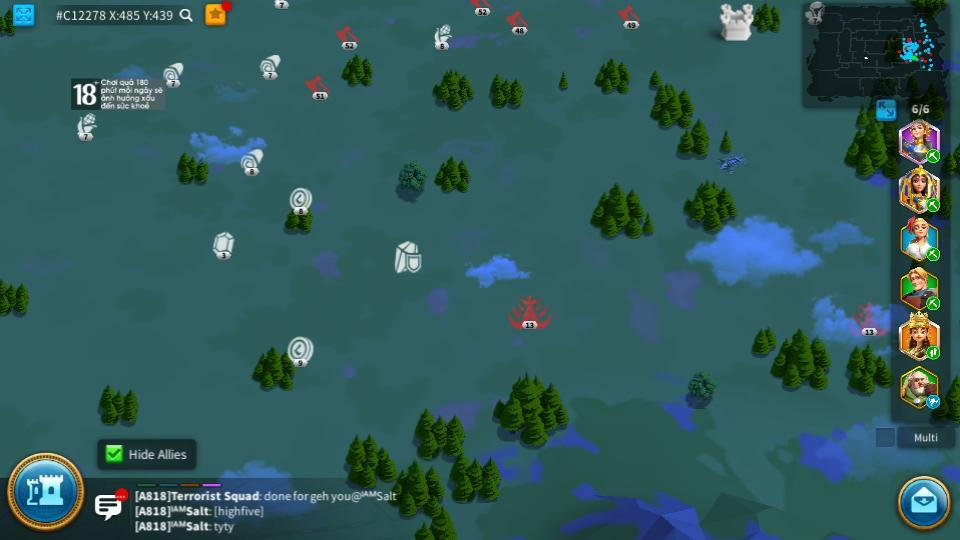gem-z-out: (211, 231, 235, 257), (273, 0, 290, 8)
march_farming: (925, 197, 941, 212), (925, 297, 942, 310), (925, 149, 941, 162), (925, 249, 941, 261)
march_idle: (925, 396, 942, 408)
march_marching: (925, 347, 942, 359)
